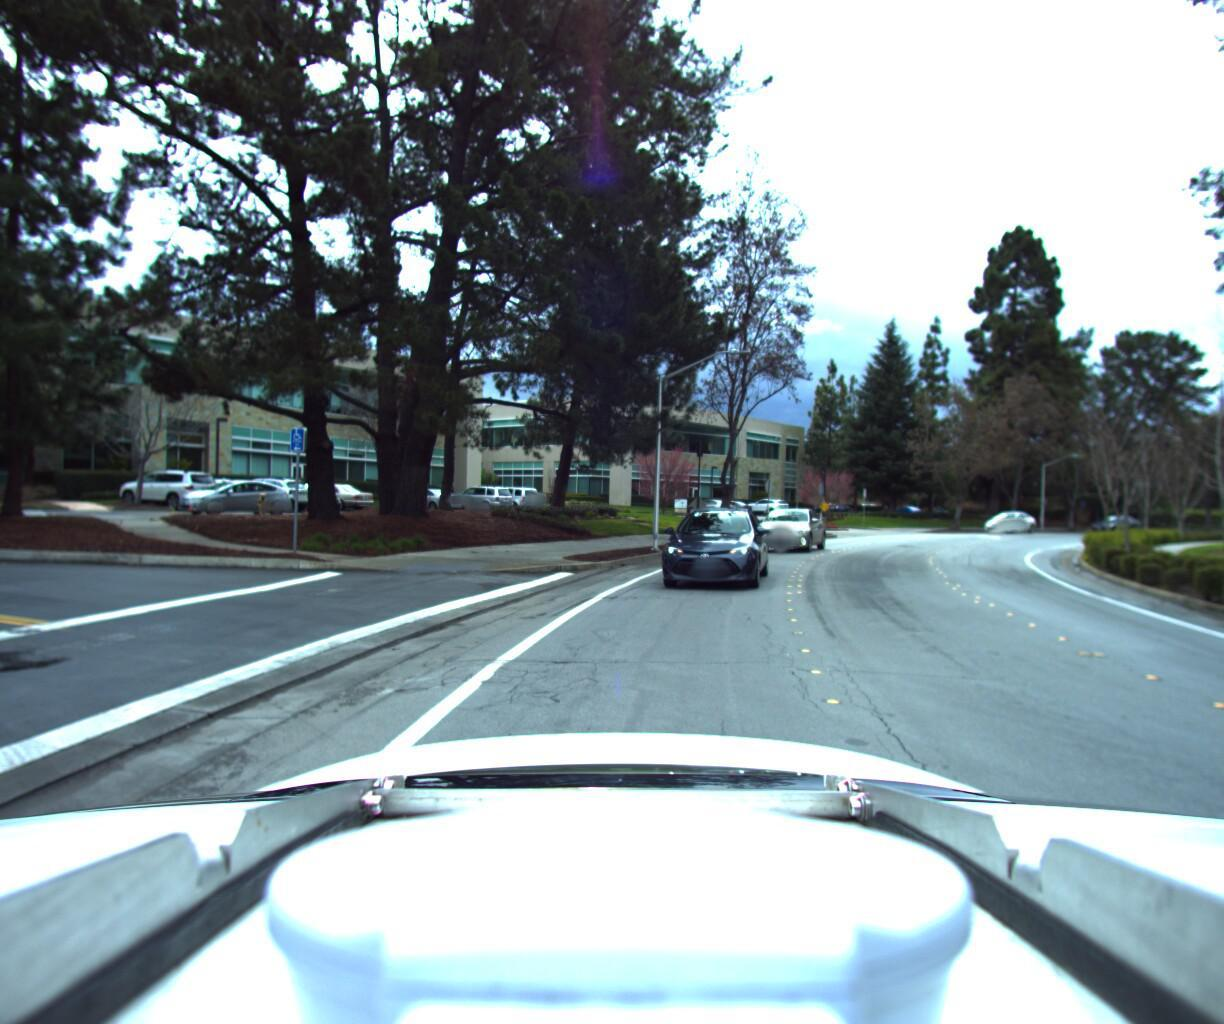car: (646, 501, 768, 595), (740, 498, 821, 548), (975, 504, 1032, 532)
